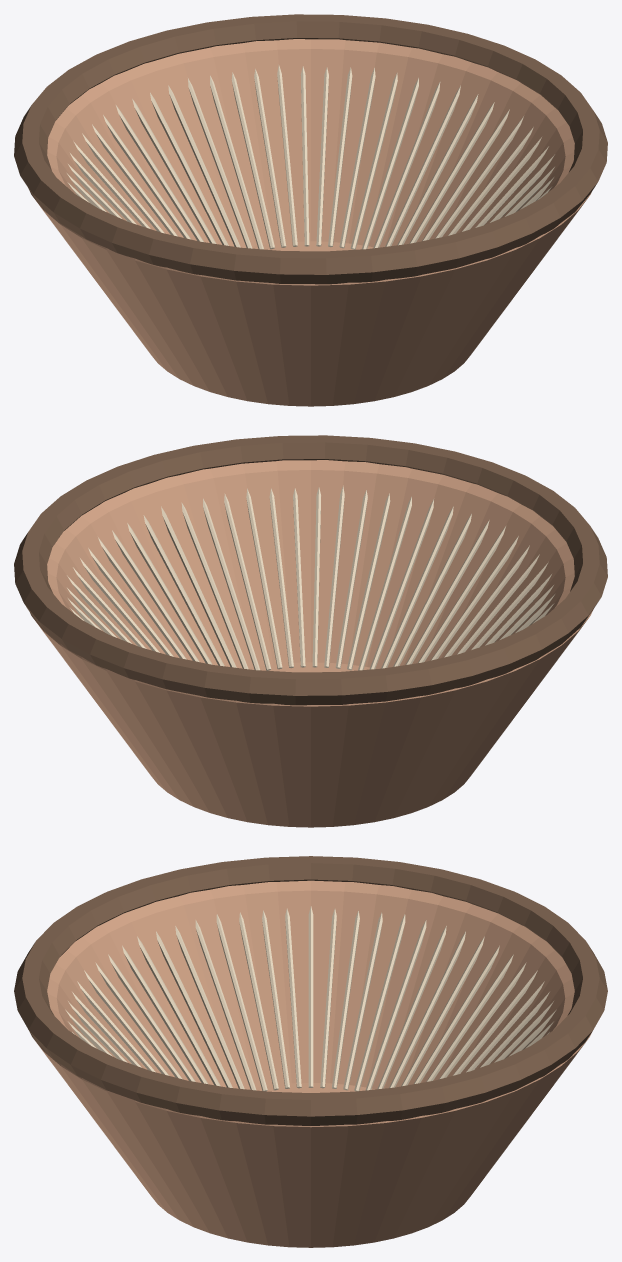
File: kitchen_suribachi.glb
3 renders of one model, top to bottom at view 1: azimuth 30°, elevation 25°; view 2: azimuth 150°, elevation 25°; view 3: azimuth 270°, elevation 25°, orthographic.
Parts seen in each view (by area): view 1: Suribachi heavy conical mortar, Heavy rolled rim, Fine inner grinding ridges.007, Fine inner grinding ridges.015, Fine inner grinding ridges.016, Fine inner grinding ridges.006, Fine inner grinding ridges.014, Fine inner grinding ridges.008, Fine inner grinding ridges.005, Fine inner grinding ridges.013, Fine inner grinding ridges.017, Fine inner grinding ridges.004 (+17 smaller); view 2: Suribachi heavy conical mortar, Heavy rolled rim, Fine inner grinding ridges.057, Fine inner grinding ridges.048, Fine inner grinding ridges.049, Fine inner grinding ridges.058, Fine inner grinding ridges.050, Fine inner grinding ridges.056, Fine inner grinding ridges.059, Fine inner grinding ridges.051, Fine inner grinding ridges.047, Fine inner grinding ridges.060 (+17 smaller); view 3: Suribachi heavy conical mortar, Heavy rolled rim, Fine inner grinding ridges.032, Fine inner grinding ridges.028, Fine inner grinding ridges.036, Fine inner grinding ridges.027, Fine inner grinding ridges.037, Fine inner grinding ridges.029, Fine inner grinding ridges.035, Fine inner grinding ridges.026, Fine inner grinding ridges.038, Fine inner grinding ridges.030 (+17 smaller).
Boxes of the visible parts, bbox=[...] form: Suribachi heavy conical mortar: bbox=[28, 39, 591, 406]; Heavy rolled rim: bbox=[14, 14, 607, 284]; Fine inner grinding ridges.007: bbox=[350, 72, 397, 249]; Fine inner grinding ridges.015: bbox=[210, 75, 263, 249]; Fine inner grinding ridges.016: bbox=[188, 78, 252, 248]; Fine inner grinding ridges.006: bbox=[362, 77, 418, 249]; Fine inner grinding ridges.014: bbox=[231, 72, 274, 249]; Fine inner grinding ridges.008: bbox=[339, 67, 375, 248]; Fine inner grinding ridges.005: bbox=[373, 81, 440, 248]; Fine inner grinding ridges.013: bbox=[254, 69, 286, 247]; Fine inner grinding ridges.017: bbox=[168, 85, 240, 247]; Fine inner grinding ridges.004: bbox=[385, 85, 460, 246]; Suribachi heavy conical mortar: bbox=[30, 460, 593, 827]; Heavy rolled rim: bbox=[14, 435, 607, 705]; Fine inner grinding ridges.057: bbox=[224, 493, 271, 670]; Fine inner grinding ridges.048: bbox=[369, 499, 433, 669]; Fine inner grinding ridges.049: bbox=[358, 496, 411, 670]; Fine inner grinding ridges.058: bbox=[203, 498, 259, 670]; Fine inner grinding ridges.050: bbox=[347, 493, 390, 670]; Fine inner grinding ridges.056: bbox=[246, 488, 282, 669]; Fine inner grinding ridges.059: bbox=[181, 502, 248, 669]; Fine inner grinding ridges.051: bbox=[335, 490, 367, 668]; Fine inner grinding ridges.047: bbox=[381, 506, 453, 668]; Fine inner grinding ridges.060: bbox=[161, 506, 236, 667]; Suribachi heavy conical mortar: bbox=[30, 880, 591, 1247]; Heavy rolled rim: bbox=[14, 856, 607, 1125]; Fine inner grinding ridges.032: bbox=[308, 906, 313, 1087]; Fine inner grinding ridges.028: bbox=[354, 914, 405, 1091]; Fine inner grinding ridges.036: bbox=[216, 914, 267, 1091]; Fine inner grinding ridges.027: bbox=[365, 920, 426, 1090]; Fine inner grinding ridges.037: bbox=[195, 920, 256, 1090]; Fine inner grinding ridges.029: bbox=[343, 912, 382, 1090]; Fine inner grinding ridges.035: bbox=[239, 912, 278, 1090]; Fine inner grinding ridges.026: bbox=[377, 926, 446, 1089]; Fine inner grinding ridges.038: bbox=[175, 926, 244, 1089]; Fine inner grinding ridges.030: bbox=[332, 910, 359, 1088].
Bounding box in the file's own units: 1.95 × 0.7806 × 1.95.
